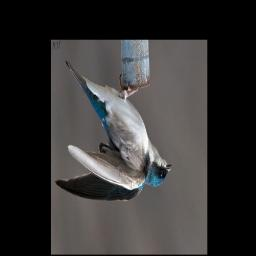Swallow: (54, 57, 173, 205)
